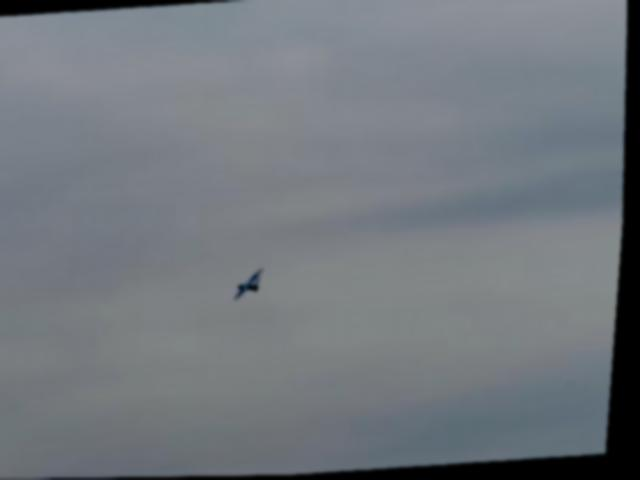uav: (236, 264, 271, 303)
